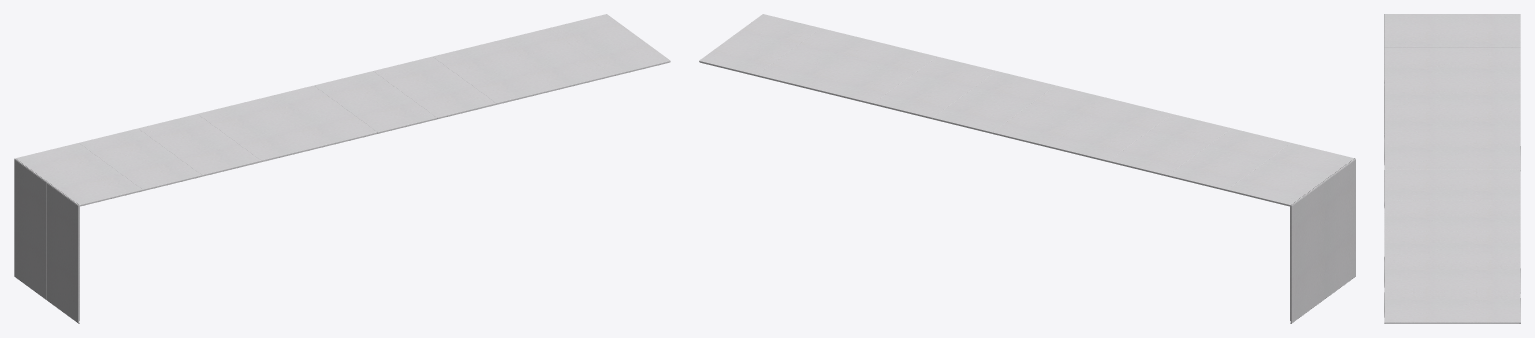
The model's file is rear-top-drywall.glb.
The picture shows the model from 3 angles, left to right: view 1: azimuth 30°, elevation 25°; view 2: azimuth 150°, elevation 25°; view 3: azimuth 270°, elevation 25°; orthographic projection. The views are drawn at different scales.
Visible parts, largest first — view 1: 40FT Blank_DryWall_RearTop_001; view 2: 40FT Blank_DryWall_RearTop_001; view 3: 40FT Blank_DryWall_RearTop_001.
Part boxes in pixels (x1=…): 40FT Blank_DryWall_RearTop_001: x1=14, y1=14, x2=670, y2=323; 40FT Blank_DryWall_RearTop_001: x1=699, y1=14, x2=1355, y2=323; 40FT Blank_DryWall_RearTop_001: x1=1384, y1=14, x2=1520, y2=323.
Size of the model in its own units: 11.94 by 2.29 by 2.24.
2 materials, 1 textured.
